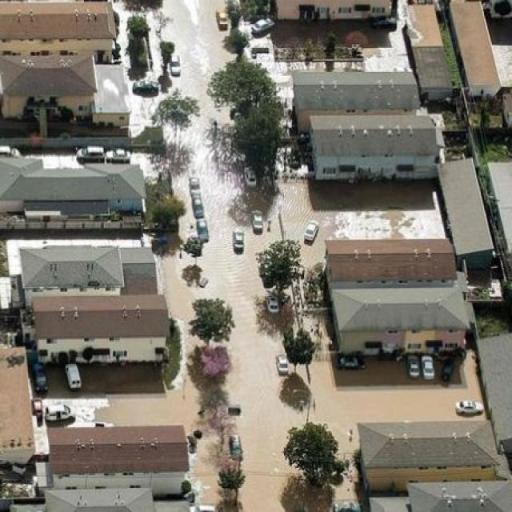flood: (160, 0, 482, 512), (72, 365, 201, 434), (309, 181, 446, 239), (280, 183, 336, 265), (410, 7, 441, 46)
house: (318, 223, 473, 369), (302, 108, 441, 188), (34, 294, 172, 370), (0, 43, 119, 124), (48, 424, 190, 490), (356, 419, 498, 483), (20, 246, 160, 302), (0, 164, 147, 210), (2, 2, 114, 61), (401, 2, 466, 100), (447, 0, 504, 106), (288, 66, 421, 110), (0, 339, 38, 481), (366, 480, 512, 512), (270, 0, 394, 20)
